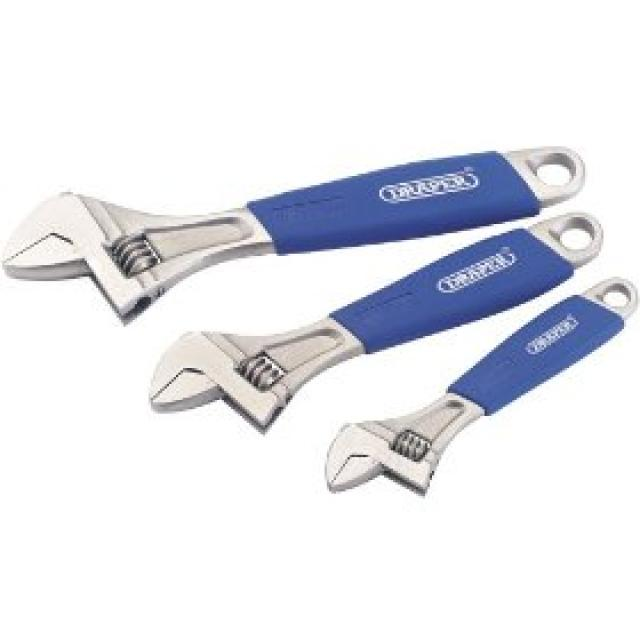wrench: (0, 135, 450, 322), (320, 362, 640, 520)
